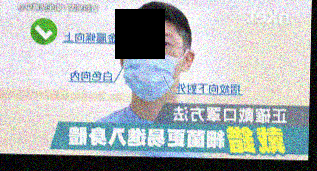with_mask: (122, 29, 183, 100)
